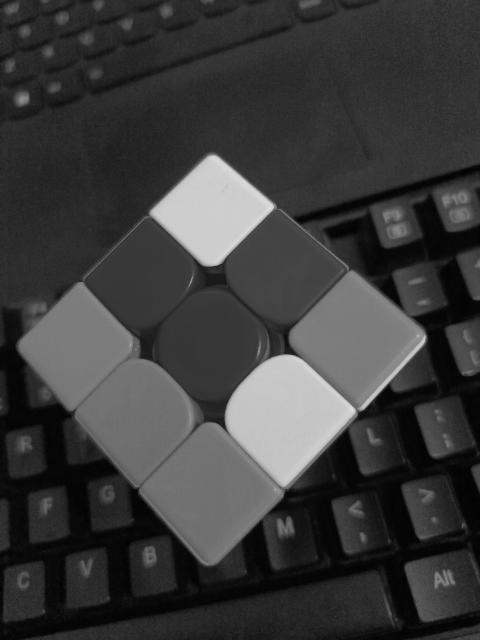rubik: (15, 152, 427, 566)
